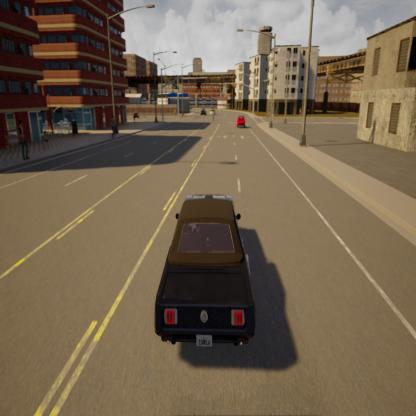Cars: (152, 174, 259, 362), (233, 112, 250, 132), (197, 103, 208, 120), (209, 104, 217, 116)
Pedestrian: (16, 116, 34, 168), (2, 124, 12, 158), (42, 127, 53, 157), (107, 115, 118, 142), (212, 109, 216, 122)
